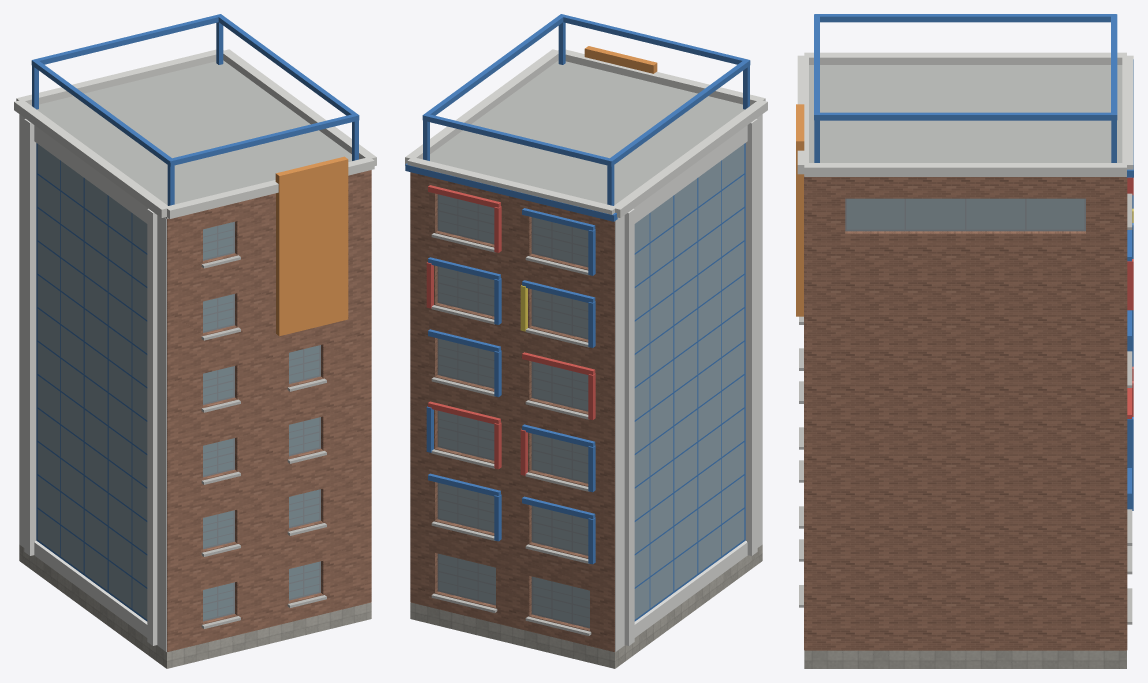
The picture shows the model from 3 angles, left to right: view 1: azimuth 30°, elevation 25°; view 2: azimuth 150°, elevation 25°; view 3: azimuth 270°, elevation 25°; orthographic projection. The views are drawn at different scales.
Visible parts, largest first — view 1: west-tower__brick, west-tower__stairglass, west-tower__roof, west-tower__white, west-tower__blue, west-tower__orange, west-tower__cap, west-tower__glass, west-tower__stone, west-tower__frame, west-tower__sill; view 2: west-tower__brick, west-tower__stairglass, west-tower__roof, west-tower__sideglass, west-tower__blue, west-tower__white, west-tower__cap, west-tower__frame, west-tower__stone, west-tower__sill, west-tower__red, west-tower__orange; view 3: west-tower__brick, west-tower__roof, west-tower__cap, west-tower__blue, west-tower__sideglass, west-tower__stone, west-tower__sill, west-tower__orange, west-tower__frame, west-tower__red.
Boxes of the visible parts, x1,y1,x2,y2 form: west-tower__brick: (167, 170, 371, 651); west-tower__stairglass: (37, 144, 147, 619); west-tower__roof: (37, 60, 351, 218); west-tower__white: (19, 114, 166, 651); west-tower__blue: (31, 14, 359, 621); west-tower__orange: (275, 156, 348, 336); west-tower__cap: (14, 49, 376, 218); west-tower__glass: (203, 222, 319, 619); west-tower__stone: (19, 544, 371, 668); west-tower__frame: (203, 221, 320, 621); west-tower__sill: (201, 255, 326, 628); west-tower__brick: (410, 172, 614, 651); west-tower__stairglass: (634, 144, 744, 619); west-tower__roof: (430, 60, 744, 204); west-tower__sideglass: (439, 194, 589, 626); west-tower__blue: (405, 14, 750, 621); west-tower__white: (615, 114, 762, 651); west-tower__cap: (405, 49, 767, 217); west-tower__frame: (437, 194, 589, 628); west-tower__stone: (410, 544, 762, 668); west-tower__sill: (431, 233, 591, 635); west-tower__red: (426, 185, 595, 475); west-tower__orange: (584, 46, 657, 73); west-tower__brick: (804, 174, 1127, 650); west-tower__roof: (809, 65, 1122, 162); west-tower__cap: (797, 52, 1133, 176); west-tower__blue: (814, 14, 1133, 510); west-tower__sideglass: (847, 198, 1084, 229); west-tower__stone: (804, 650, 1126, 668); west-tower__sill: (799, 193, 1132, 624); west-tower__orange: (796, 104, 804, 316); west-tower__frame: (845, 198, 1085, 231); west-tower__red: (1127, 177, 1133, 418).
Size of the model in its own units: 10.62 by 23.68 by 13.19.
15 materials, 2 textured.
